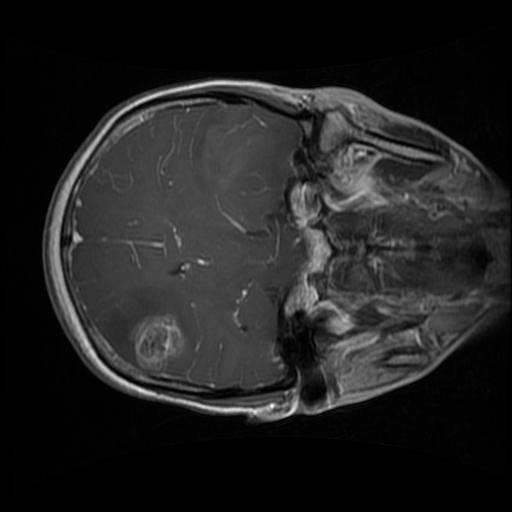glioma: (100, 283, 186, 369)
